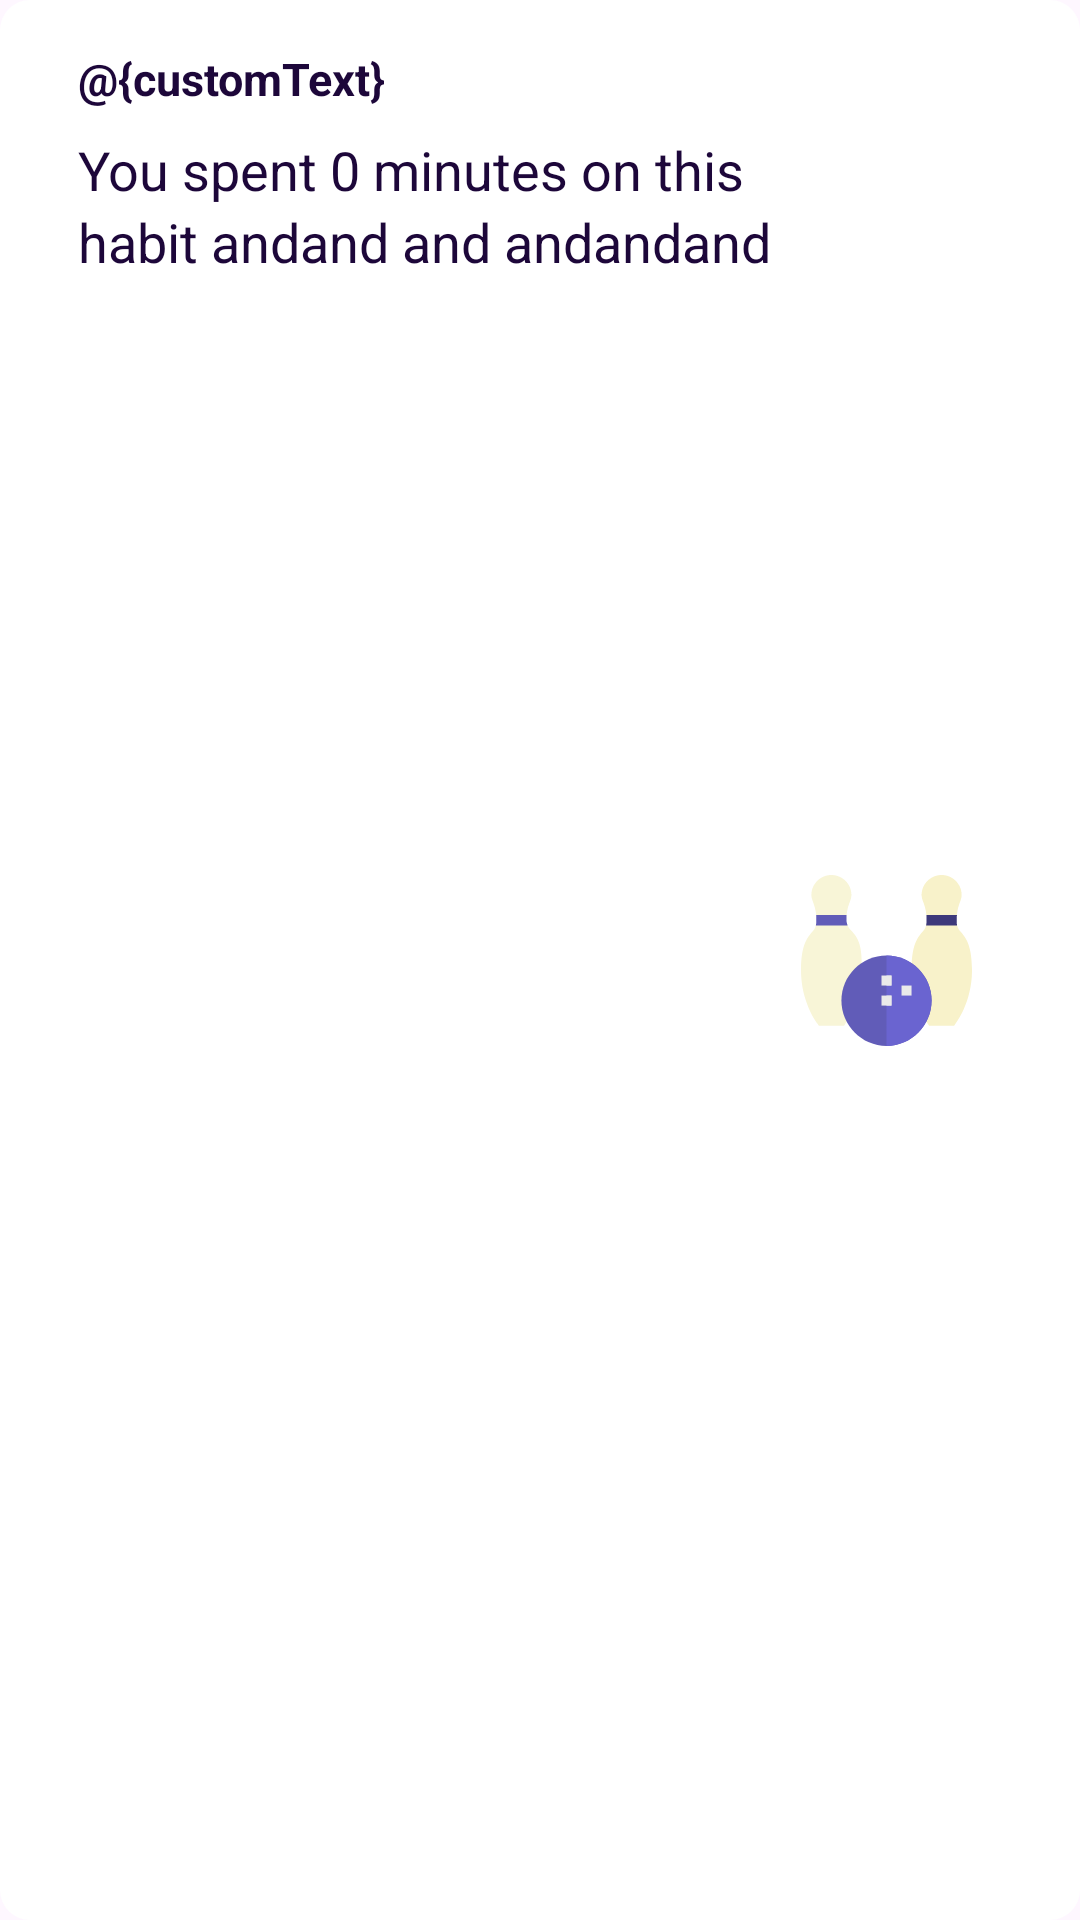

Icons on this 1080*1920 Android screen, each with its box as (x1, y1, x2, y2):
fun: (801, 875, 972, 1046)
